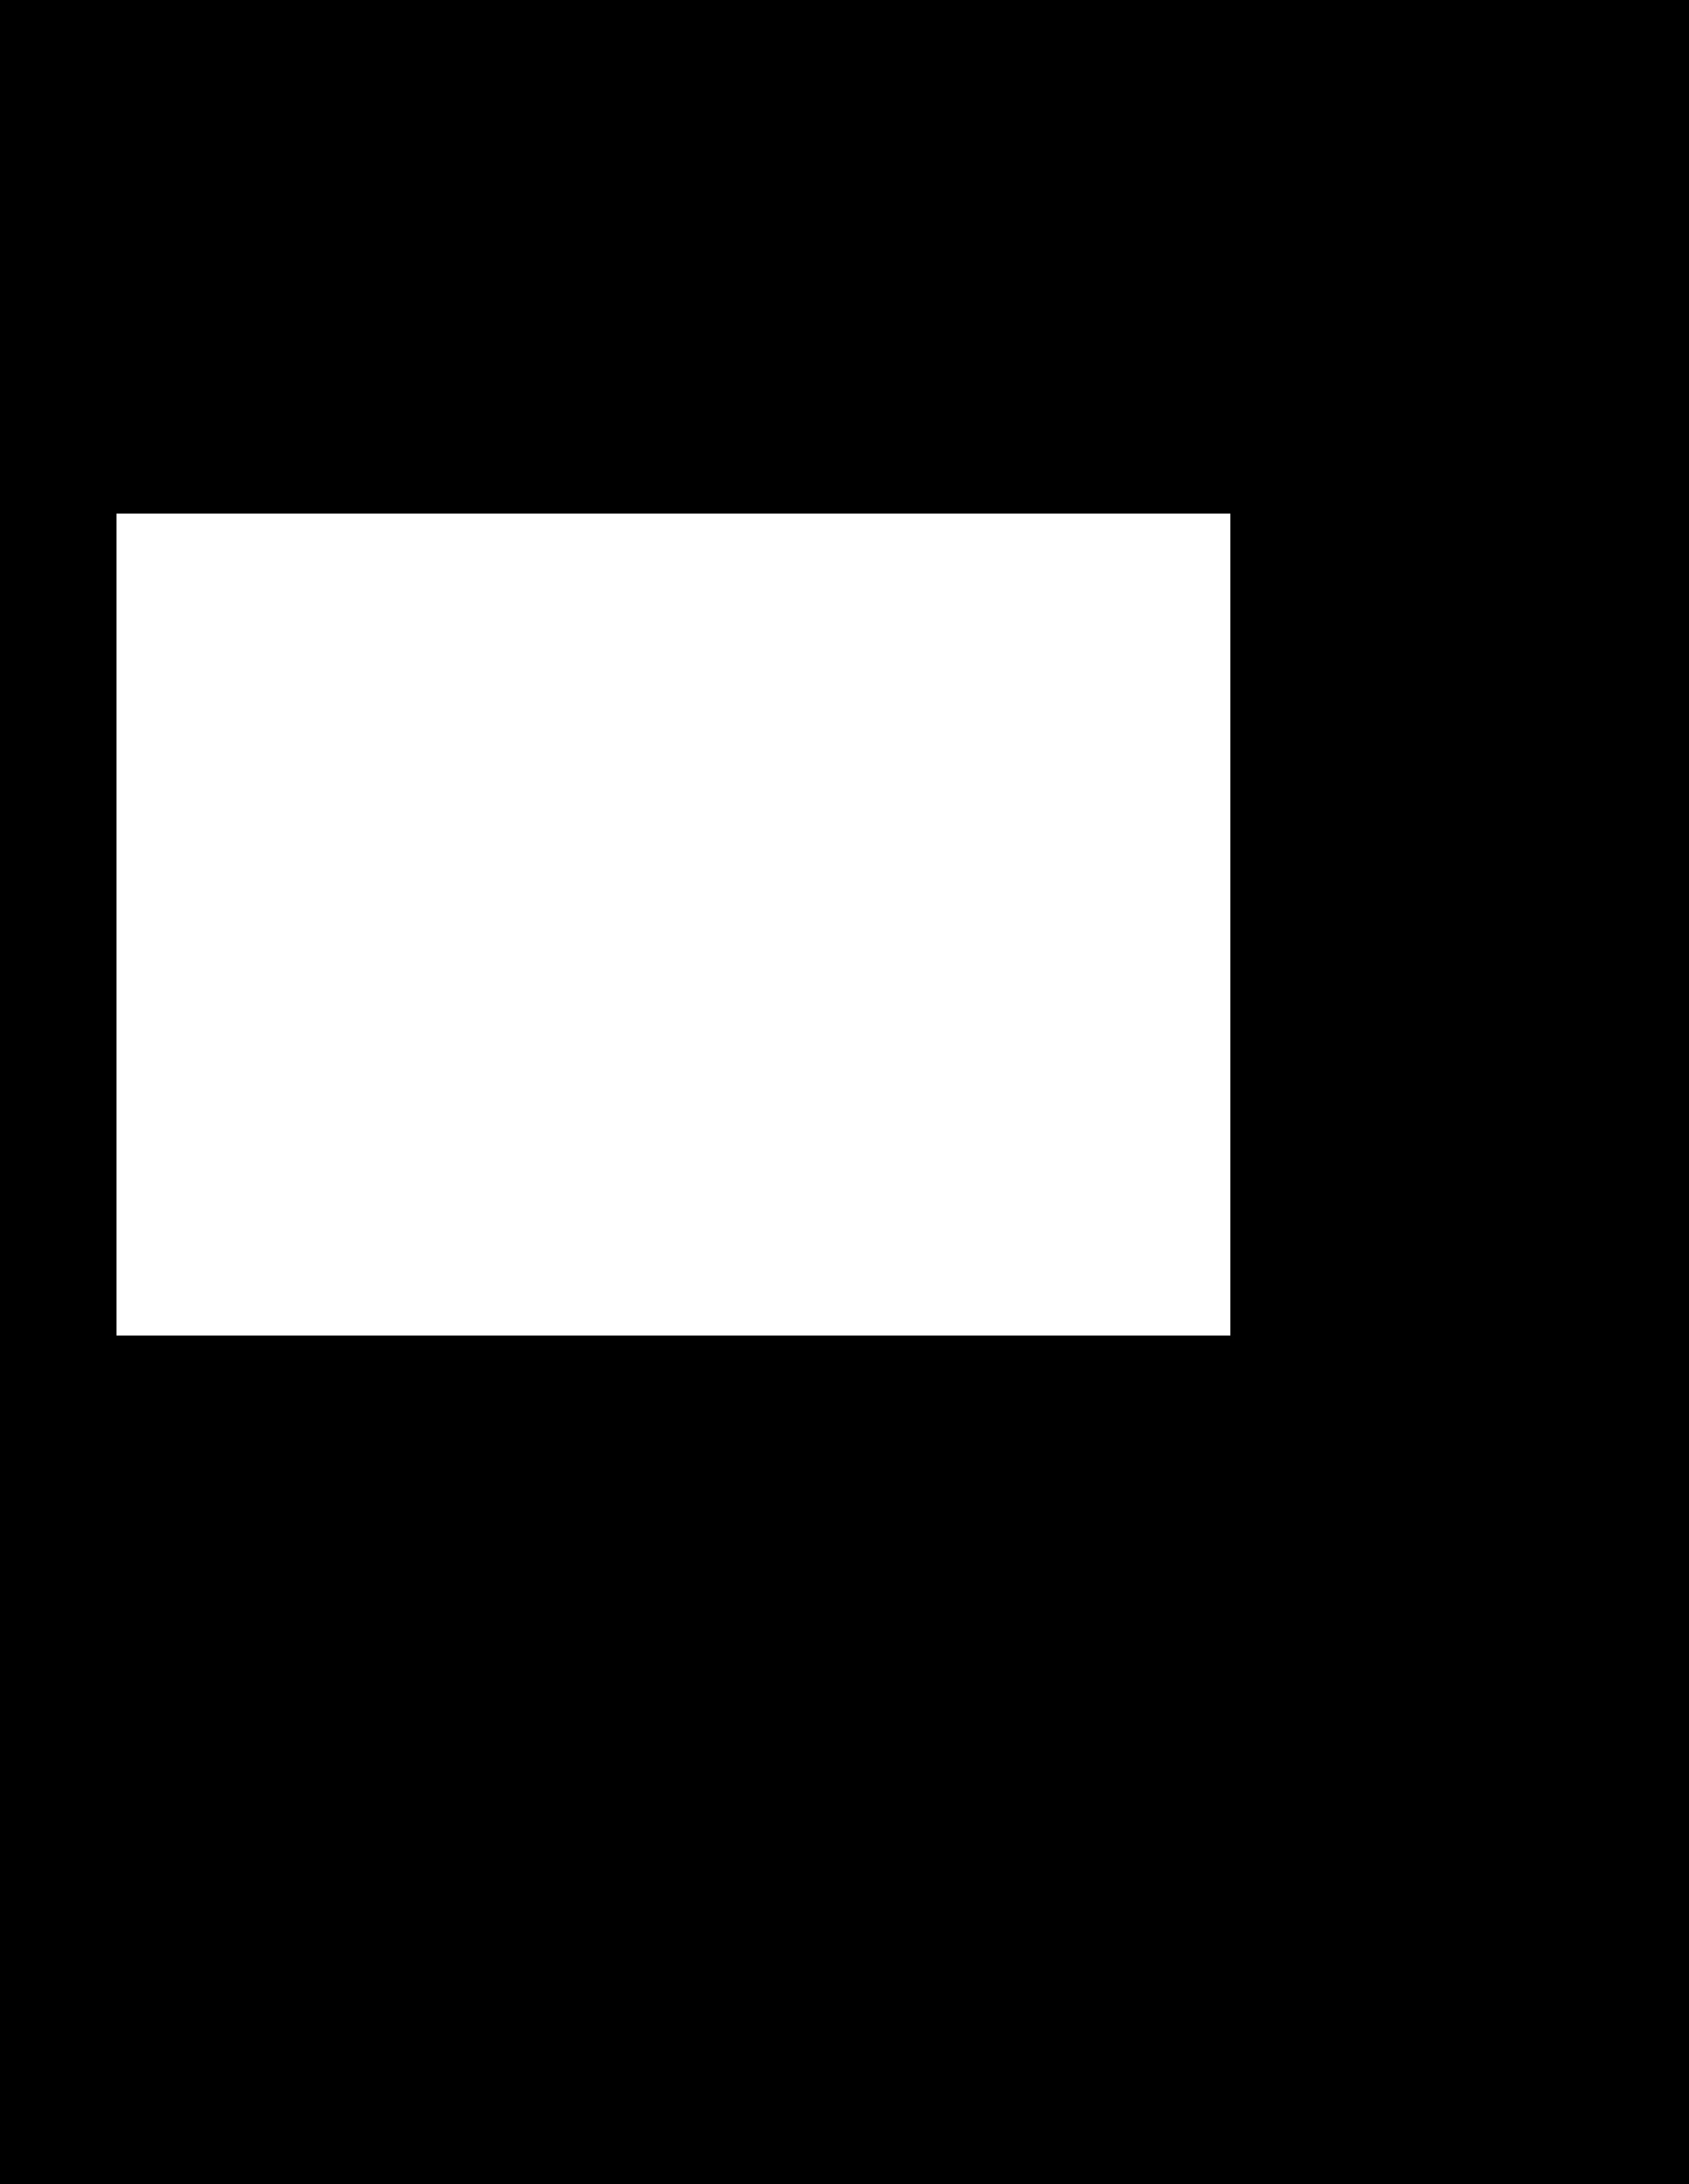table: (117, 514, 1230, 1335)
